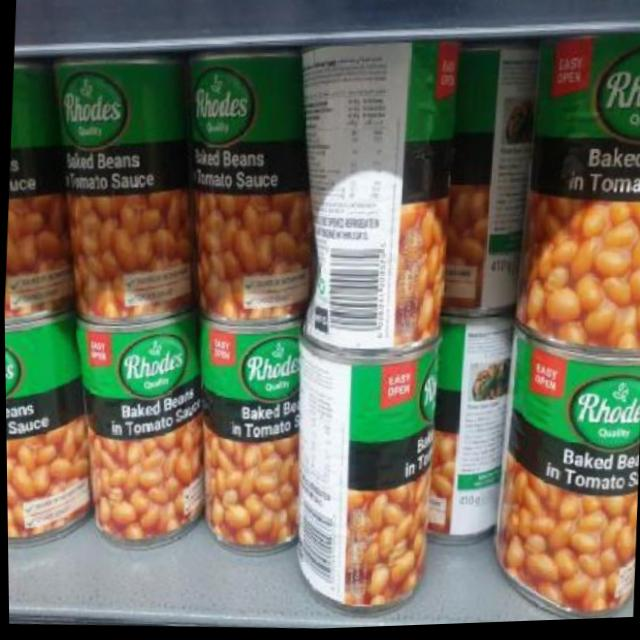Beans: (175, 50, 337, 343), (444, 52, 582, 329), (322, 58, 460, 330), (184, 334, 320, 584), (431, 318, 560, 556), (308, 321, 435, 557), (100, 66, 202, 305), (102, 298, 210, 504), (543, 325, 640, 546), (4, 305, 82, 571), (567, 59, 640, 325), (1, 71, 71, 330), (46, 290, 133, 496), (49, 77, 123, 294)
